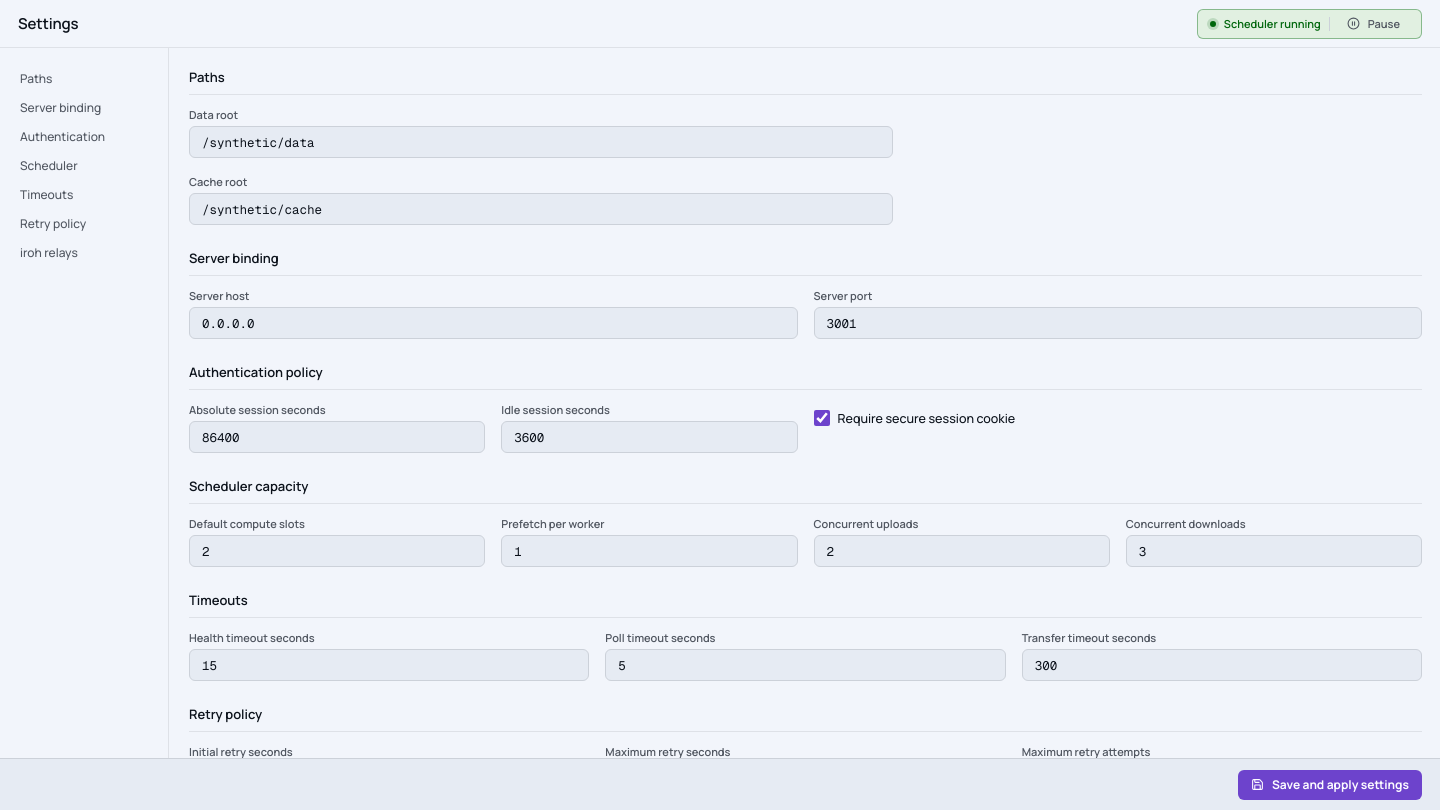
Scenario: Settings page › edits every public configuration group and reports applied settings
Check: the number field labelled "Default compute slots" holds "2", box [189,535,485,567]
Check: the heading "Paths" is shown, box [189,68,225,86]
Click the button with aria-label "Pause scheduler" at (1373, 24), box [1338,12,1409,36]
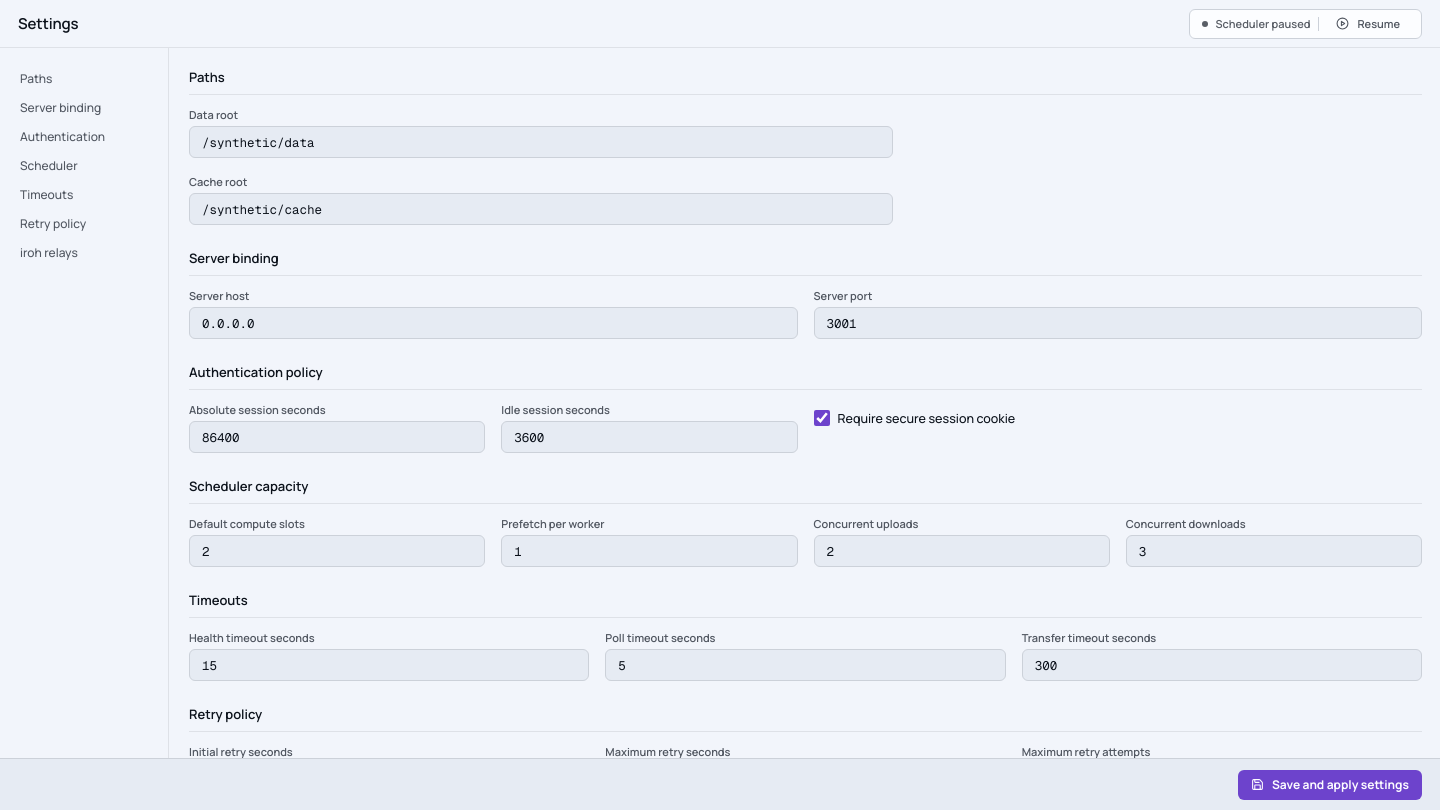
Check: the text "Scheduler paused" is shown, box [1216,16,1310,31]
Replace the text in the field labelled "Cache root" with "/media/.videnoa-cache" at (541, 209), box [189,193,893,225]
Replace the text in the number field labelled "Server port" with "4555" at (1118, 323), box [814,307,1422,339]
Click the checkbox labelled "Require secure session cookie" at (822, 418), box [814,410,830,426]
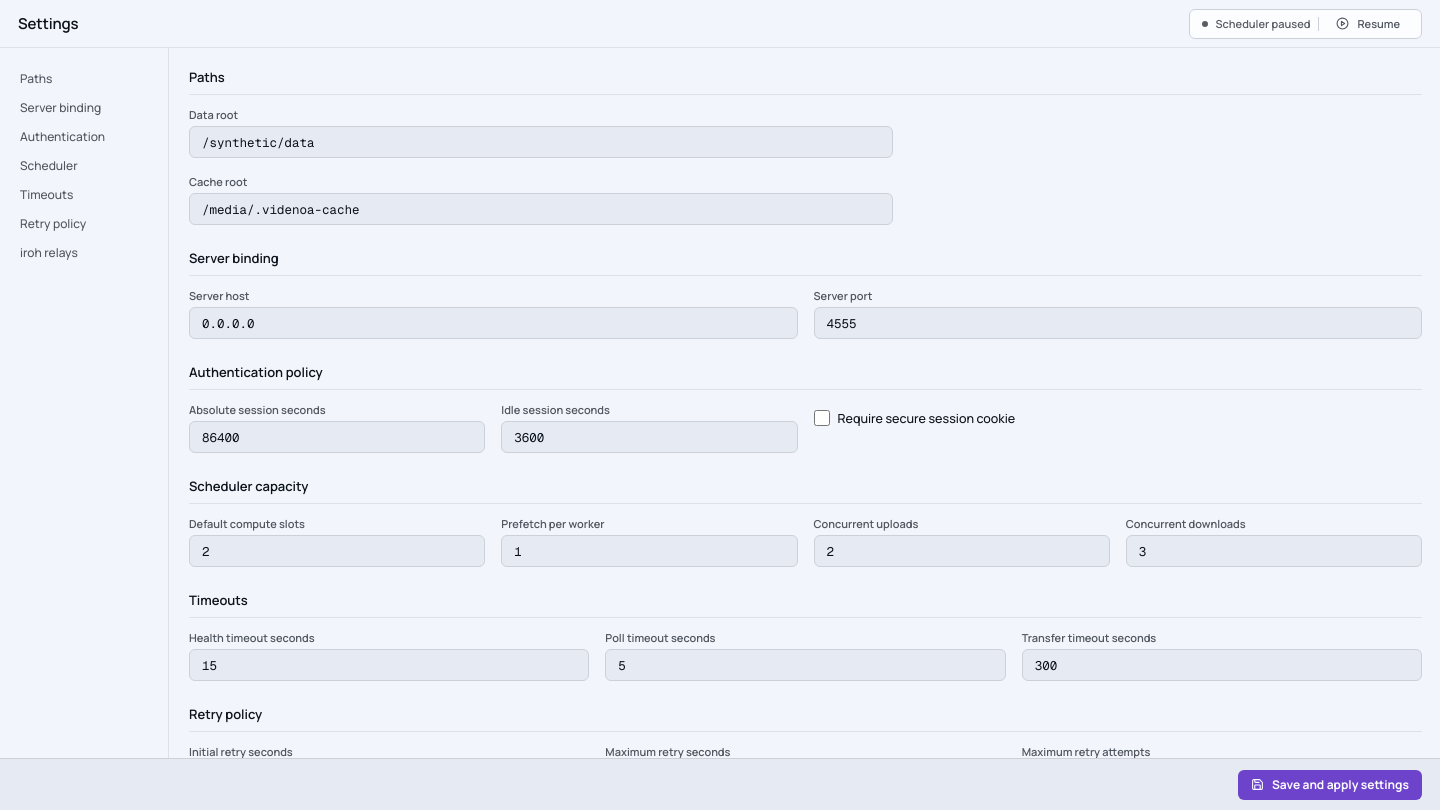
Replace the text in the number field labelled "Absolute session seconds" with "31536000" at (337, 437), box [189,421,485,453]
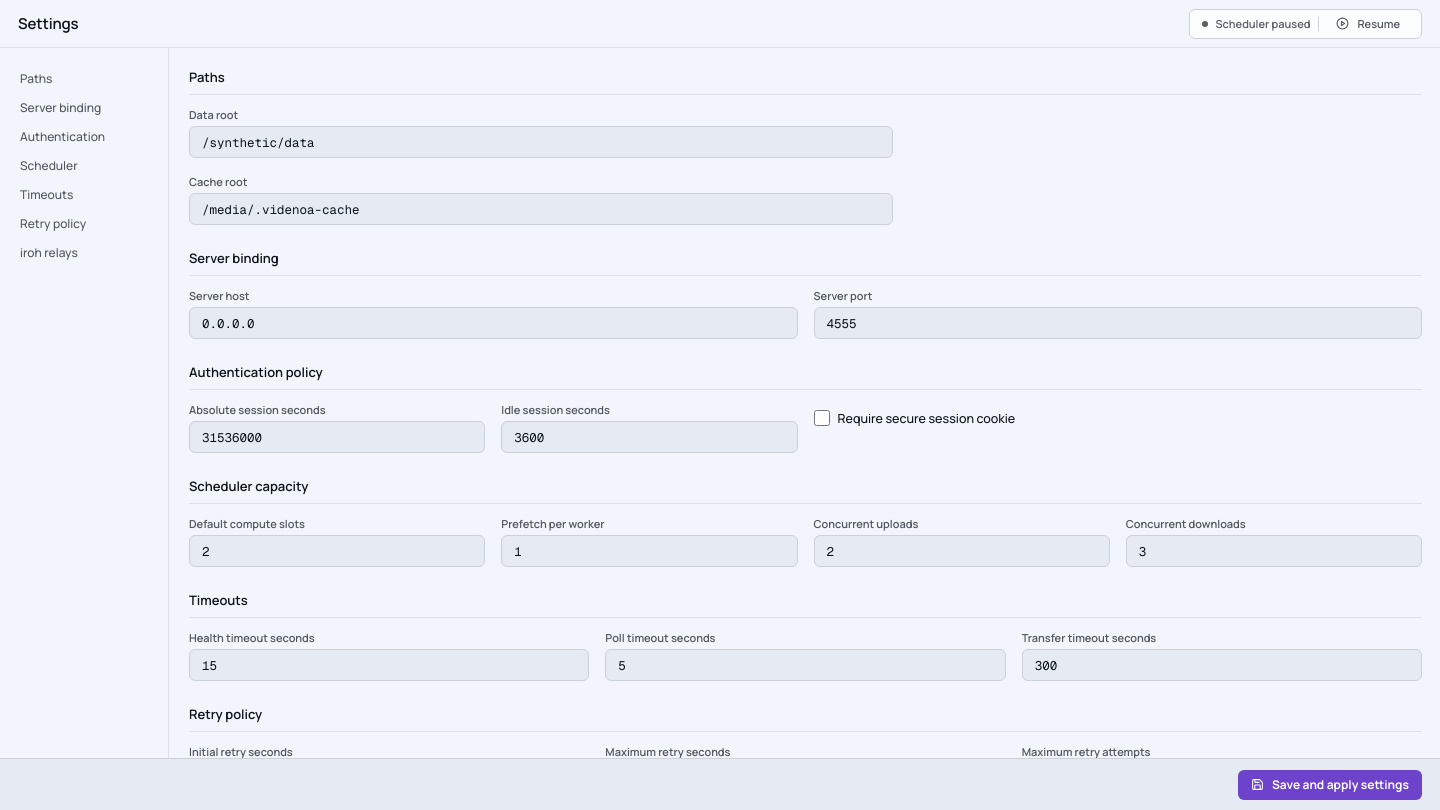
Replace the text in the number field labelled "Idle session seconds" with "2592000" at (649, 437), box [501,421,798,453]
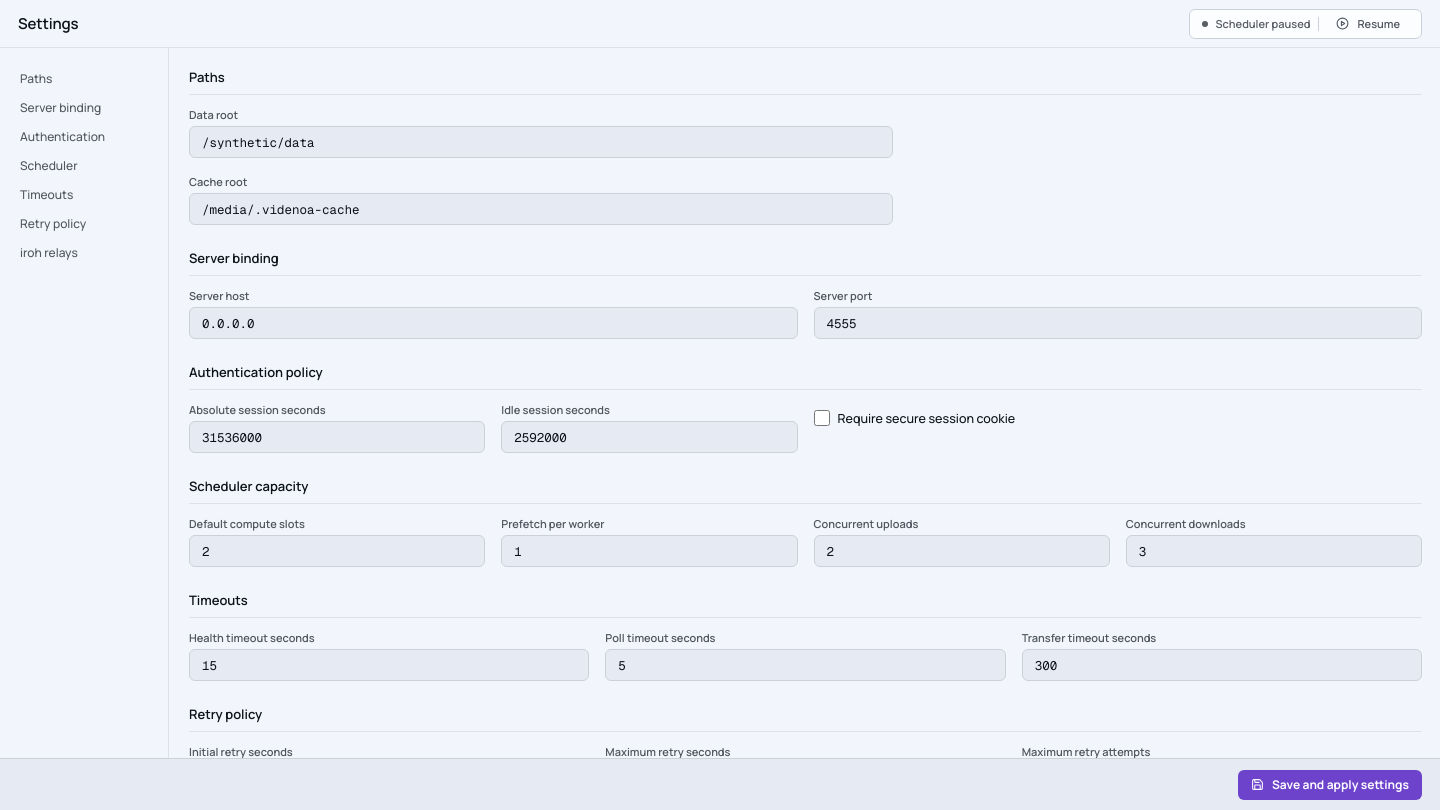
Replace the text in the number field labelled "Concurrent uploads" with "5" at (962, 551), box [814,535,1110,567]
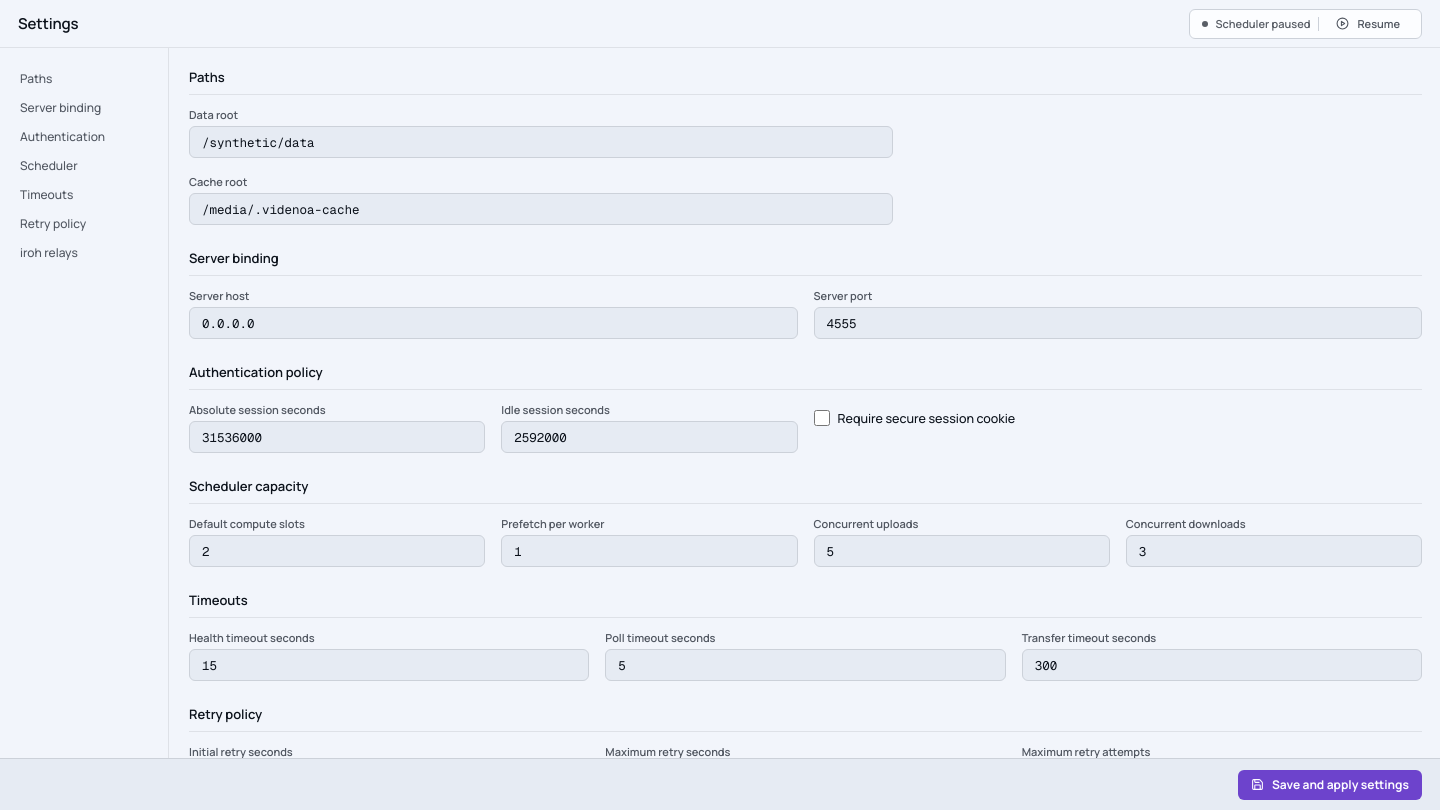
Click the button "Save and apply settings" at (1330, 784), box [1238,770,1422,800]
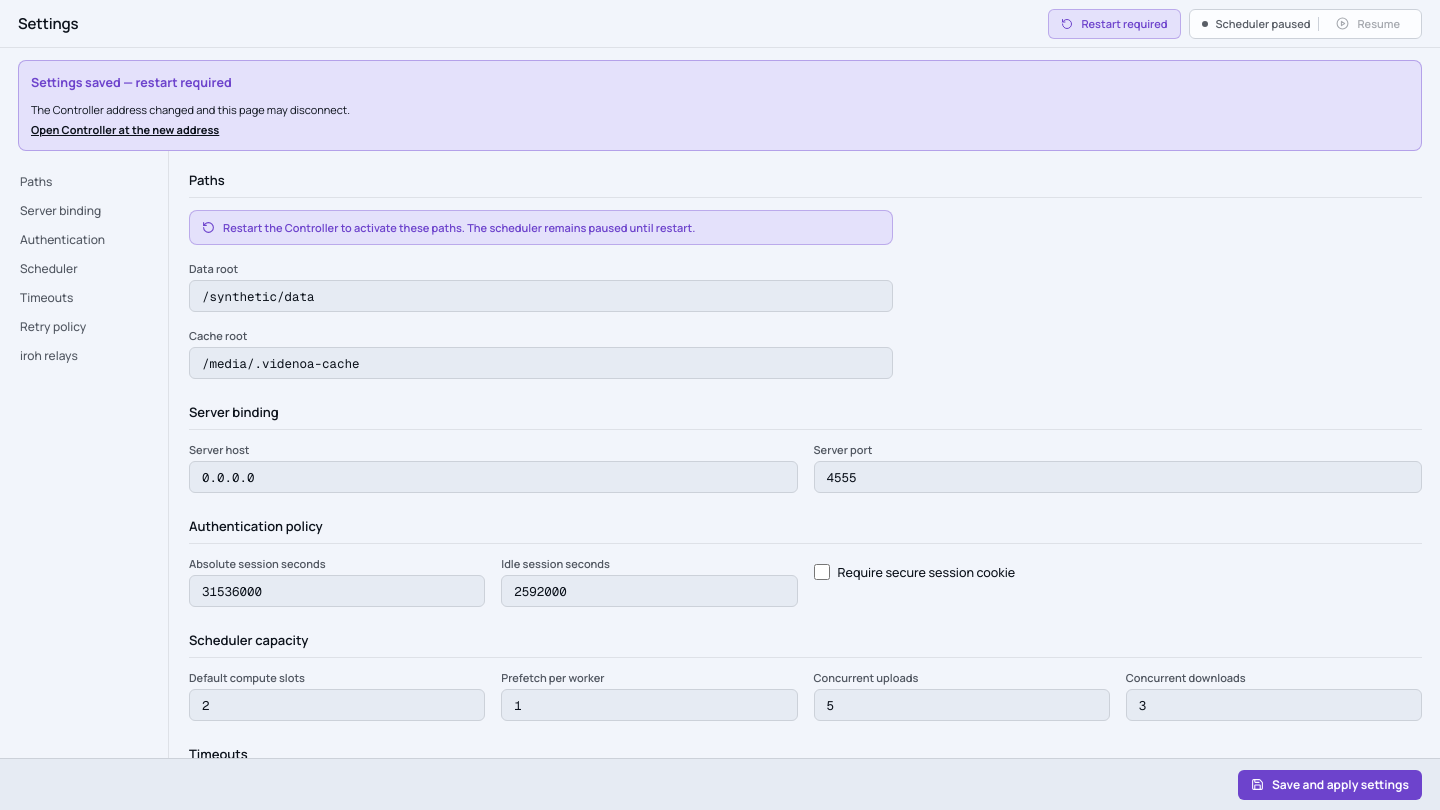
Check: the element that starts with "Settings saved — restart required" is shown, box [31,74,232,91]
Check: the button with aria-label "Resume scheduler" is disabled, box [1327,12,1409,36]
Check: the text "scheduler remains paused until restart" is shown, box [223,220,695,235]
